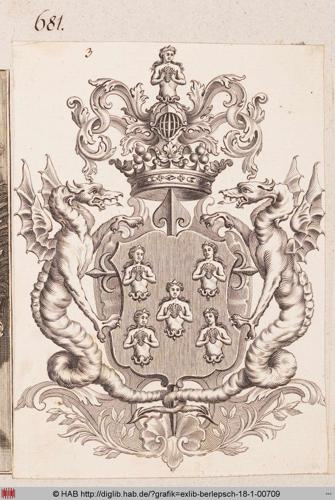crown: (106, 142, 232, 206)
dragon: (14, 153, 143, 410), (202, 155, 324, 416)
